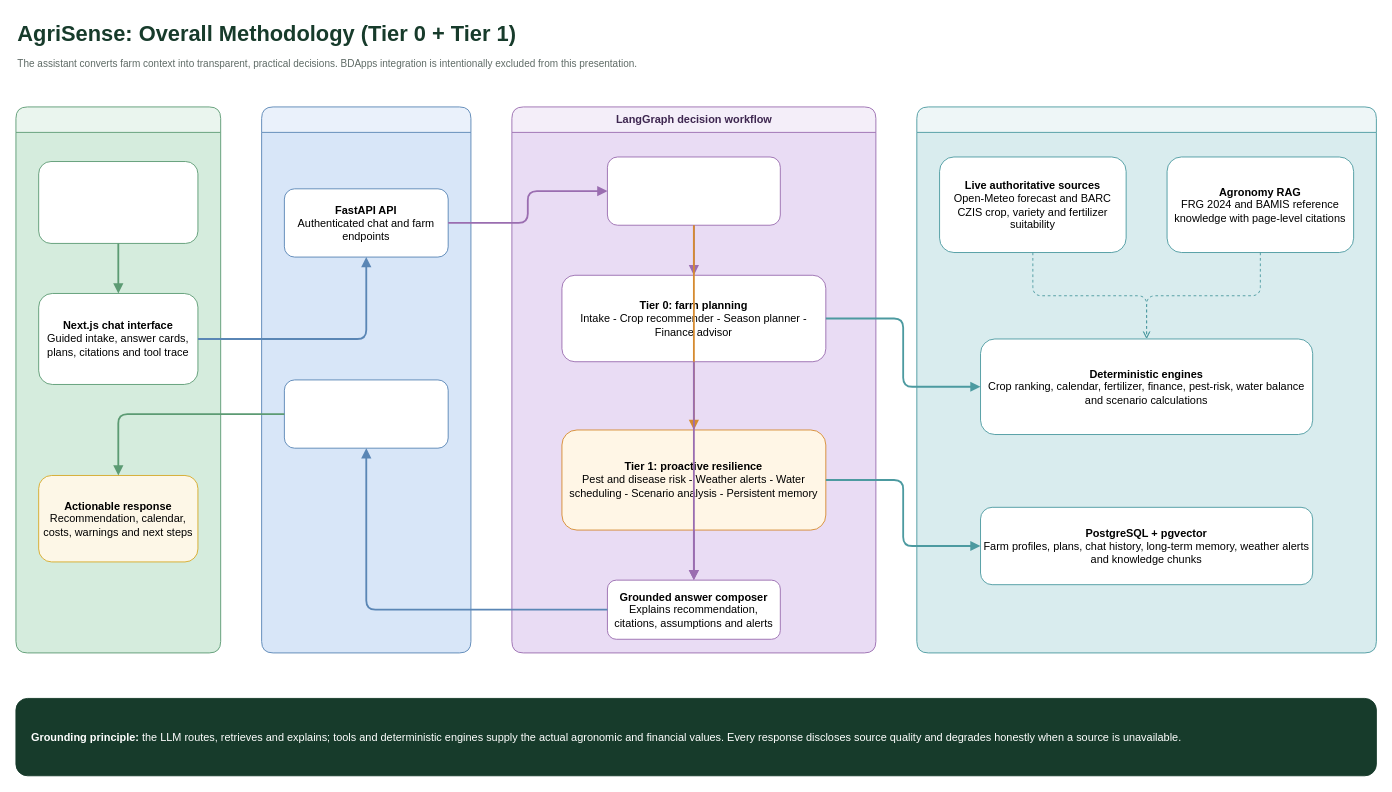
The diagram is 1392 pixels wide and 792 high, and some of its shapes have lost their labels. Here are the shapes that lost their labels. From the top down, the box of each, then its label:
(38, 161, 198, 243): Farmer Crop, location, land, soil, water, budget and goals
(607, 156, 780, 225): Intent and context routing Selects the specialist path from the farmer's request
(15, 106, 221, 653): Farmer experience
(261, 106, 471, 653): Application boundary
(916, 106, 1376, 653): Evidence and calculation layer
(283, 379, 448, 448): Streaming response SSE tokens + visible tool trace
